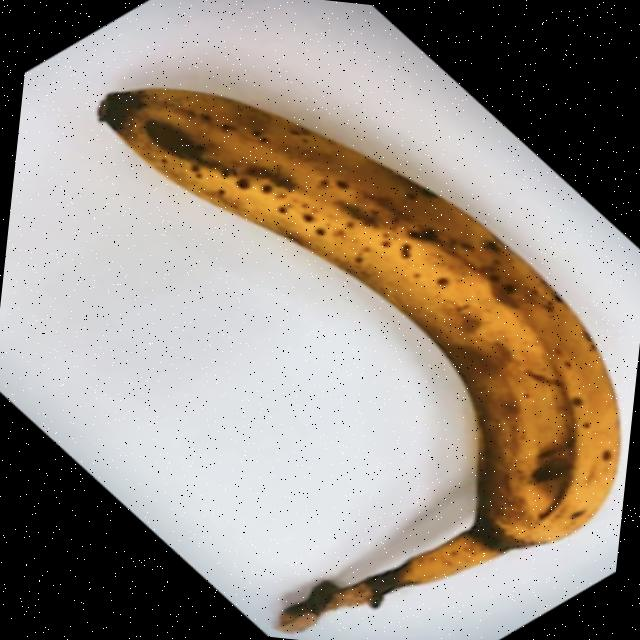overripe: (52, 74, 640, 604)
